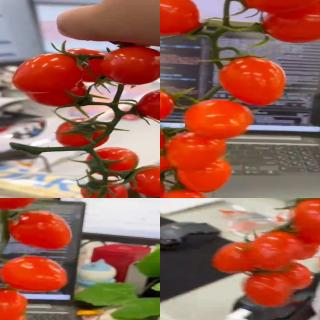tomato: (218, 52, 288, 108), (11, 53, 84, 95), (8, 208, 77, 252), (182, 98, 255, 138), (0, 254, 71, 291), (167, 131, 230, 171), (252, 230, 306, 274), (101, 45, 160, 85), (258, 6, 320, 44), (177, 157, 235, 194), (57, 46, 112, 84), (23, 79, 92, 109), (252, 261, 315, 292), (242, 272, 295, 308), (208, 242, 264, 276), (160, 0, 205, 40), (56, 122, 111, 152), (85, 148, 142, 176), (236, 0, 320, 16), (290, 198, 320, 237), (129, 163, 160, 197), (135, 86, 160, 121), (81, 181, 131, 198), (0, 288, 26, 320), (160, 86, 176, 124), (160, 187, 213, 198), (160, 144, 178, 174)
